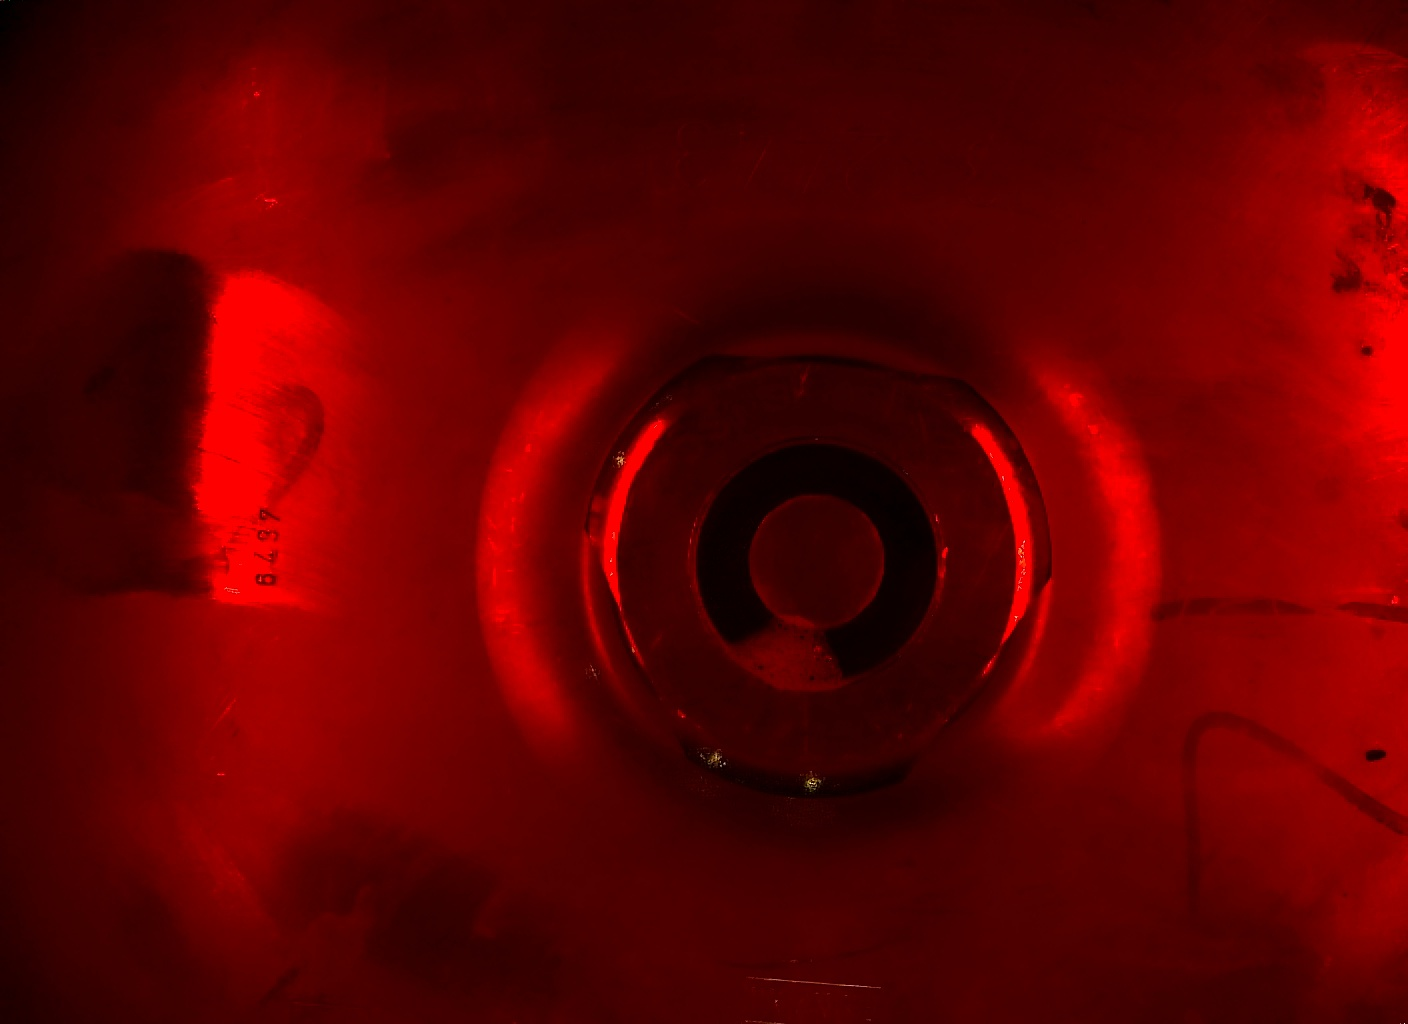pena: (717, 617, 849, 713)
